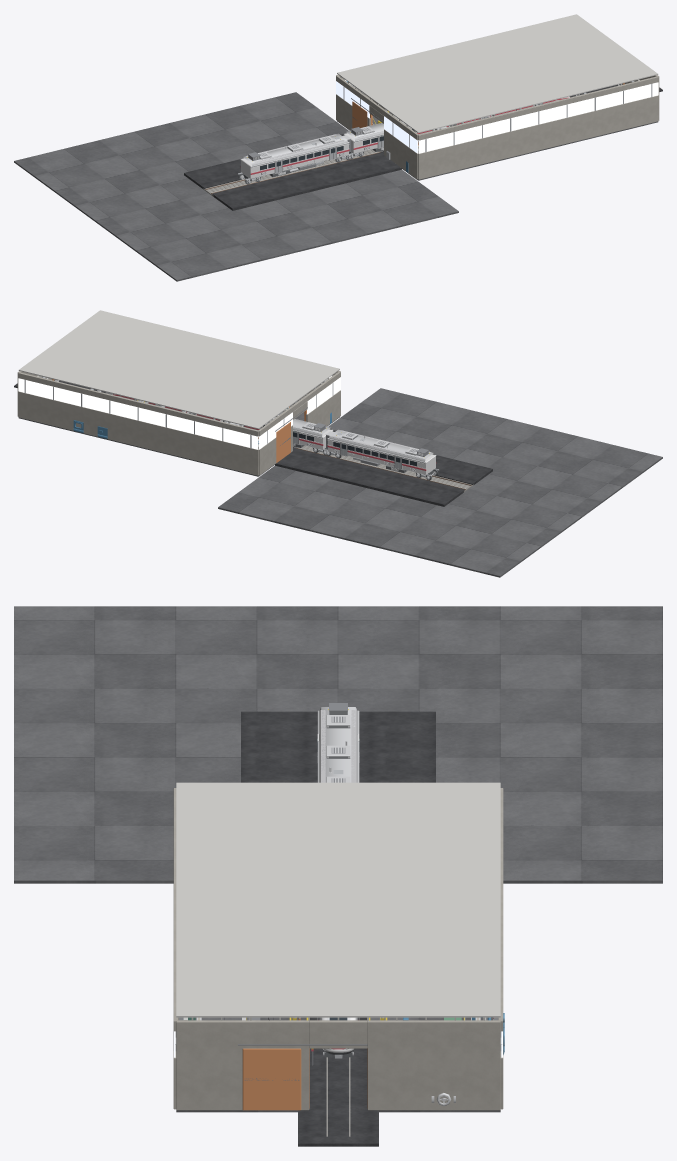
Rendered from szene.glb.
The picture shows the model from 3 angles, top to bottom: view 1: azimuth 30°, elevation 25°; view 2: azimuth 150°, elevation 25°; view 3: azimuth 270°, elevation 25°; orthographic projection. The views are drawn at different scales.
Parts seen in each view (by area): view 1: Tor_Vorfeld_West_Gelaende, Dach_Decke, Wand_Sued_Unten, Tor_Vorfeld_West_Sued, Wand_Sued_Fenster, Wand_Sued_Oben, Tor_Vorfeld_West_Nord, Wand_West_Unten_1, Triebzug_W3_Dachkrone, Triebzug_W3_Korpus, Wand_West_Oben, Wand_West_Unten_0 (+1 smaller); view 2: Tor_Vorfeld_West_Gelaende, Dach_Decke, Wand_Nord_Unten, Tor_Vorfeld_West_Nord, Wand_Nord_Fenster, Wand_Nord_Oben, Tor_Vorfeld_West_Sued, Triebzug_W3_Dachkrone, Triebzug_W3_Korpus, Wand_West_Unten_1, Wand_West_Oben, Wand_West_Unten_0 (+2 smaller); view 3: Tor_Vorfeld_West_Gelaende, Dach_Decke, Wand_Ost_Nord, Wand_Ost_Sued, Tor_Vorfeld_West_Nord, Tor_Vorfeld_West_Sued, Tor_Blatt, Halle_Gleiszone_Ost, Tor_Vorfeld, Wand_Ost_Sturz, Triebzug_W3_Dachkrone, Halle_Boden_Ost (+2 smaller).
Part boxes in pixels (x1,y1,x2,y2): Tor_Vorfeld_West_Gelaende: (14,92,458,281); Dach_Decke: (337,14,658,133); Wand_Sued_Unten: (418,95,658,179); Tor_Vorfeld_West_Sued: (212,152,401,210); Wand_Sued_Fenster: (418,82,658,153); Wand_Sued_Oben: (418,76,658,140); Tor_Vorfeld_West_Nord: (184,134,343,188); Wand_West_Unten_1: (384,129,418,179); Triebzug_W3_Dachkrone: (242,133,347,165); Triebzug_W3_Korpus: (241,142,348,178); Wand_West_Oben: (336,75,418,140); Wand_West_Unten_0: (336,94,370,130); Tor_Vorfeld_West_Gelaende: (218,388,662,577); Dach_Decke: (18,310,339,429); Wand_Nord_Unten: (18,391,258,475); Tor_Vorfeld_West_Nord: (275,448,464,506); Wand_Nord_Fenster: (18,378,258,449); Wand_Nord_Oben: (18,372,258,436); Tor_Vorfeld_West_Sued: (333,430,492,484); Triebzug_W3_Dachkrone: (329,429,434,461); Triebzug_W3_Korpus: (328,438,435,474); Wand_West_Unten_1: (306,390,340,426); Wand_West_Oben: (258,371,340,436); Wand_West_Unten_0: (258,425,292,475); Tor_Vorfeld_West_Gelaende: (14,606,662,883); Dach_Decke: (176,782,500,1017); Wand_Ost_Nord: (367,1020,500,1110); Wand_Ost_Sued: (176,1020,309,1110); Tor_Vorfeld_West_Nord: (359,711,435,782); Tor_Vorfeld_West_Sued: (241,711,317,782); Tor_Blatt: (242,1048,301,1110); Halle_Gleiszone_Ost: (309,1017,367,1109); Tor_Vorfeld: (298,1109,378,1146); Wand_Ost_Sturz: (309,1020,367,1048); Triebzug_W3_Dachkrone: (319,707,357,782); Halle_Boden_Ost: (176,1017,500,1112).
Bounding box in the file's own units: 79 × 7.11 × 40.
60 materials, 11 textured.
